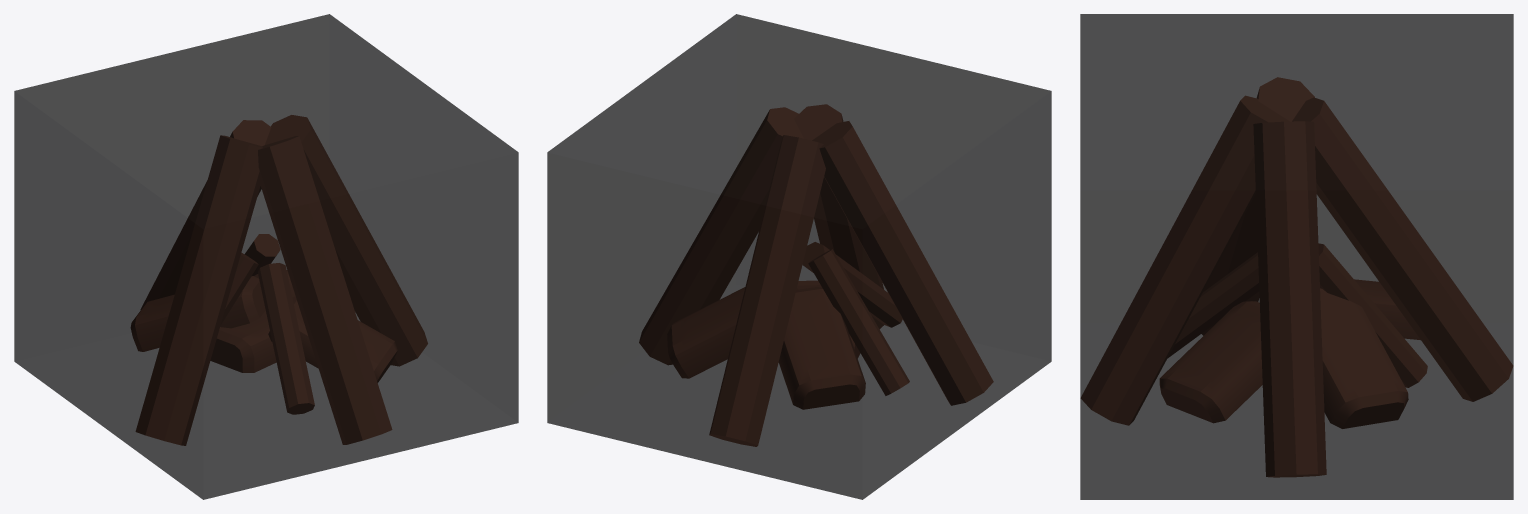
The model's file is Campfire.fbx.
The picture shows the model from 3 angles, left to right: view 1: azimuth 30°, elevation 25°; view 2: azimuth 150°, elevation 25°; view 3: azimuth 270°, elevation 25°; orthographic projection. The views are drawn at different scales.
Parts seen in each view (by area): view 1: Campfire_BBox, Campfire; view 2: Campfire_BBox, Campfire; view 3: Campfire_BBox, Campfire.
Part boxes in pixels (<box>): Campfire_BBox: <box>14,14,518,499</box>; Campfire: <box>130,115,427,445</box>; Campfire_BBox: <box>547,14,1051,499</box>; Campfire: <box>639,104,993,446</box>; Campfire_BBox: <box>1080,14,1513,499</box>; Campfire: <box>1080,77,1513,477</box>.
Size of the model in its own units: 2.39 by 1.96 by 2.48.
